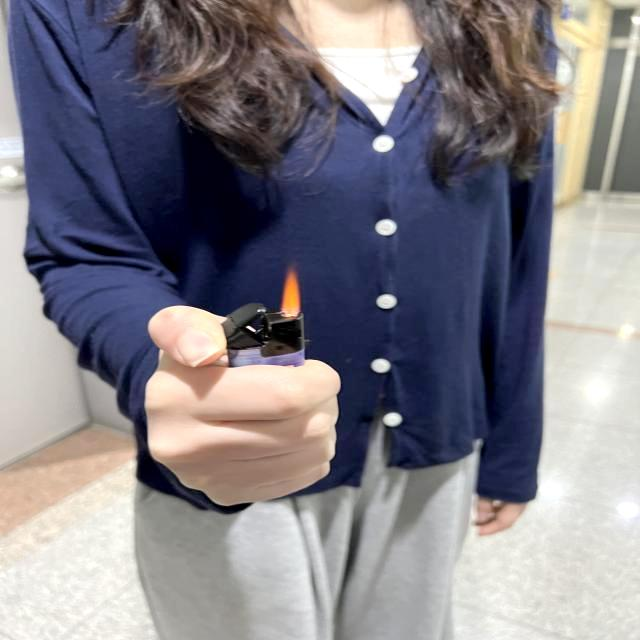fire: (278, 266, 306, 322)
